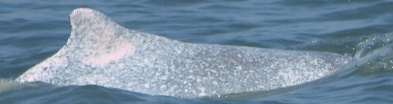fin: (10, 2, 363, 99)
